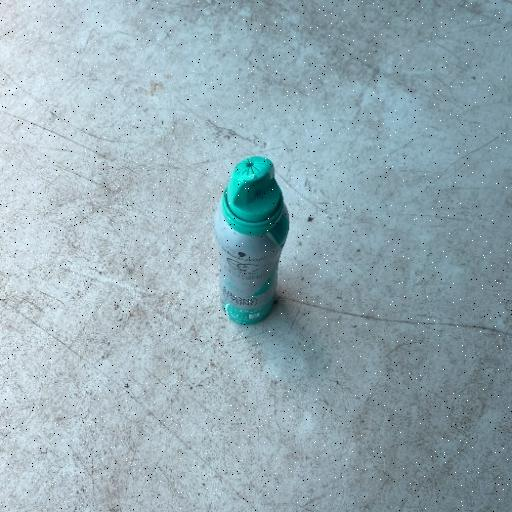Metal: (211, 154, 291, 326)
